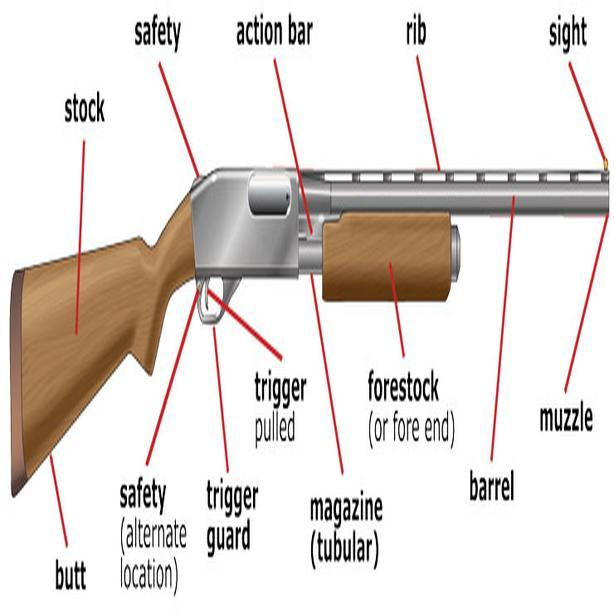Firearm: (0, 148, 614, 509)
